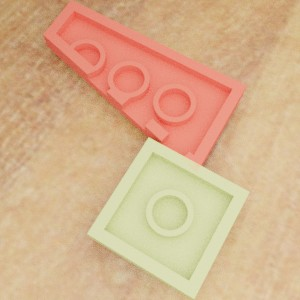lego: (43, 0, 246, 179), (87, 137, 249, 300)
